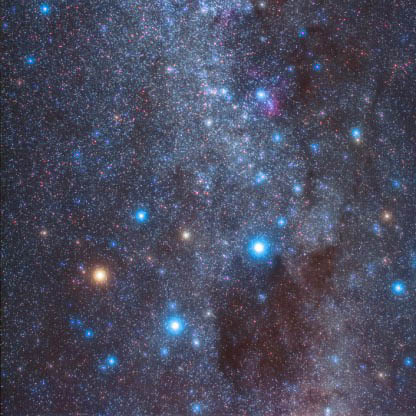Southern Cross: (240, 230, 274, 266), (85, 258, 112, 292), (161, 311, 190, 340), (131, 207, 154, 226)
